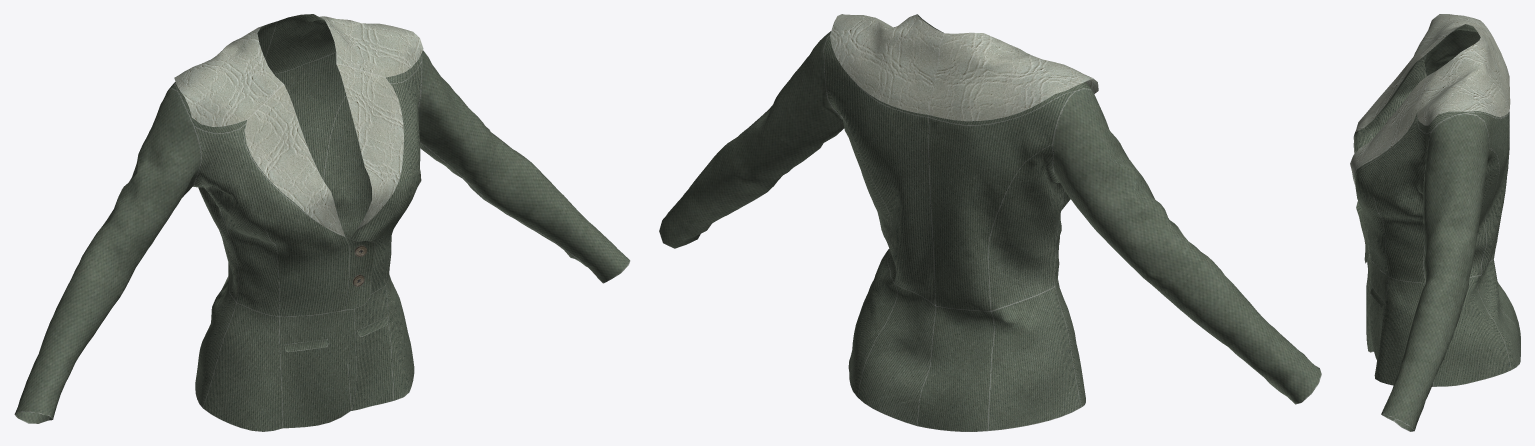
Rendered from chaqueta_mujer_anos_50.glb.
The picture shows the model from 3 angles, left to right: view 1: azimuth 30°, elevation 25°; view 2: azimuth 150°, elevation 25°; view 3: azimuth 270°, elevation 25°; orthographic projection. The views are drawn at different scales.
Parts seen in each view (by area): view 1: Traje_mujer_hombros_4; view 2: Traje_mujer_hombros_4; view 3: Traje_mujer_hombros_4.
Part boxes in pixels (x1=…): Traje_mujer_hombros_4: x1=14, y1=14, x2=630, y2=431; Traje_mujer_hombros_4: x1=659, y1=14, x2=1321, y2=431; Traje_mujer_hombros_4: x1=1350, y1=14, x2=1520, y2=431.
Bounding box in the file's own units: 1.09 × 0.6214 × 0.297.
Materials: 4 (4 with a texture image).
